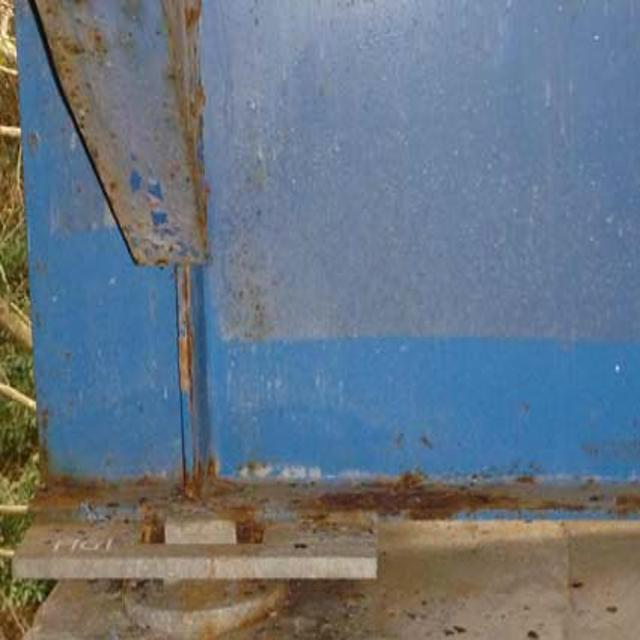corrosion: (21, 57, 493, 584)
